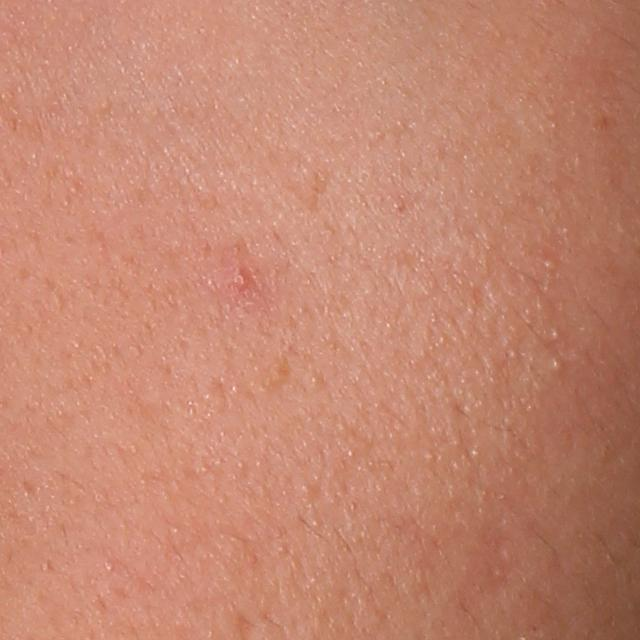comedo: (544, 323, 568, 346), (545, 352, 568, 375)
papule: (225, 262, 254, 291)
